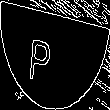P_N: (42, 27, 68, 83)
